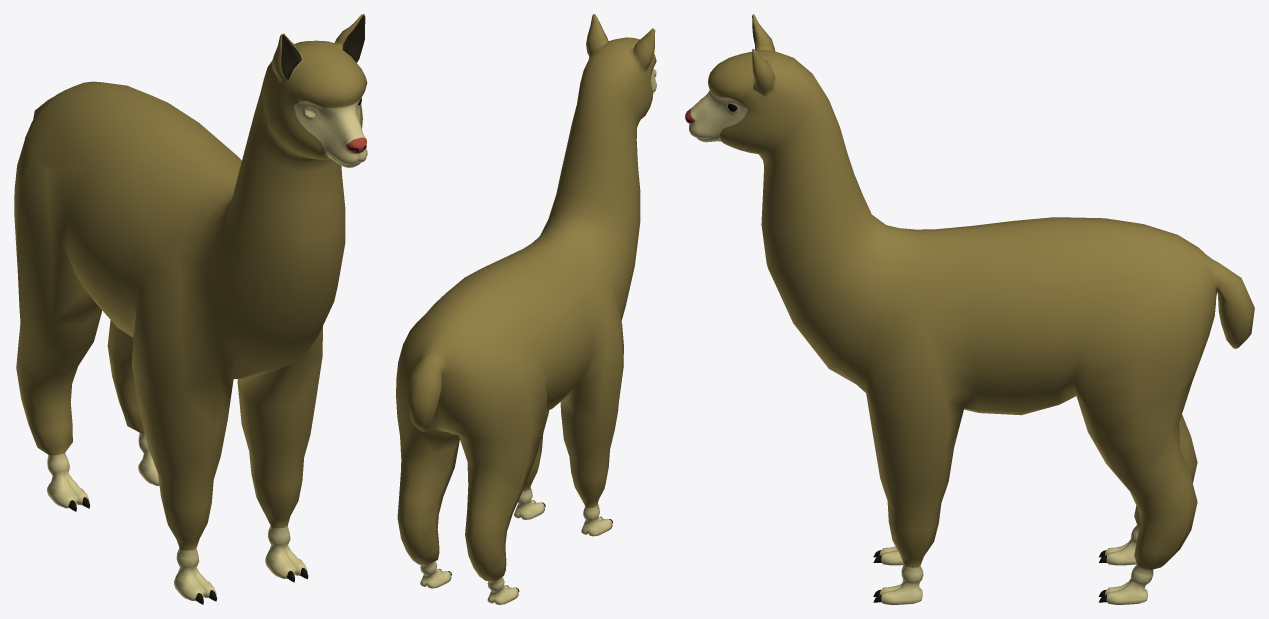
The model's file is alpaca.obj.
The picture shows the model from 3 angles, left to right: view 1: azimuth 30°, elevation 25°; view 2: azimuth 150°, elevation 25°; view 3: azimuth 270°, elevation 25°; orthographic projection. The views are drawn at different scales.
Visible parts, largest first — view 1: alpaca; view 2: alpaca; view 3: alpaca.
Part boxes in pixels (x1,y1,x2,y2): alpaca: [14, 14, 367, 604]; alpaca: [396, 14, 656, 604]; alpaca: [685, 14, 1254, 604].
Size of the model in its own units: 0.4826 by 1.59 by 1.49.
